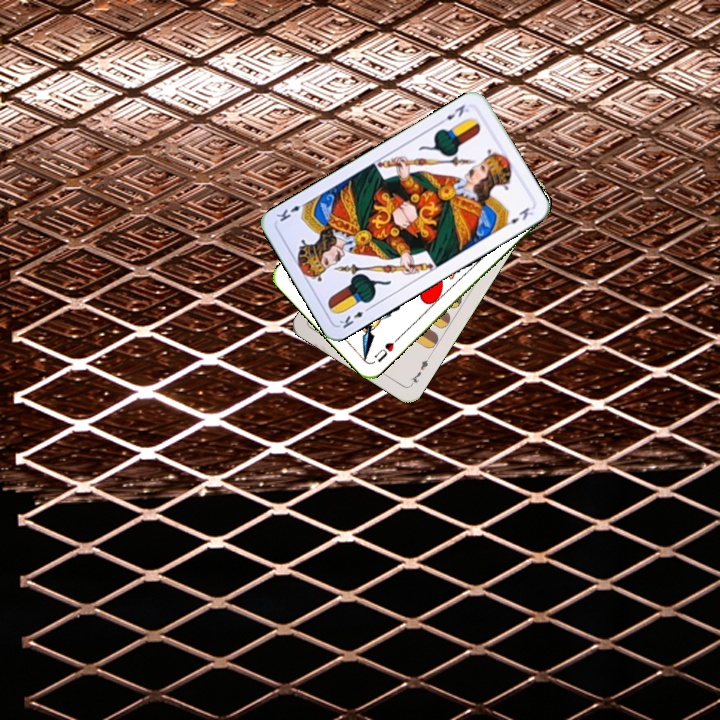E7: (406, 352, 433, 388)
EK: (335, 302, 374, 331), (435, 100, 471, 127)
HU: (370, 333, 402, 365)
